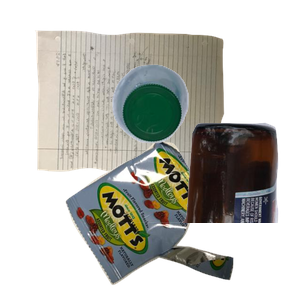glass: (87, 120, 300, 300)
paper: (32, 28, 249, 196)
plastic: (110, 62, 300, 198)
trash: (63, 137, 289, 300)
